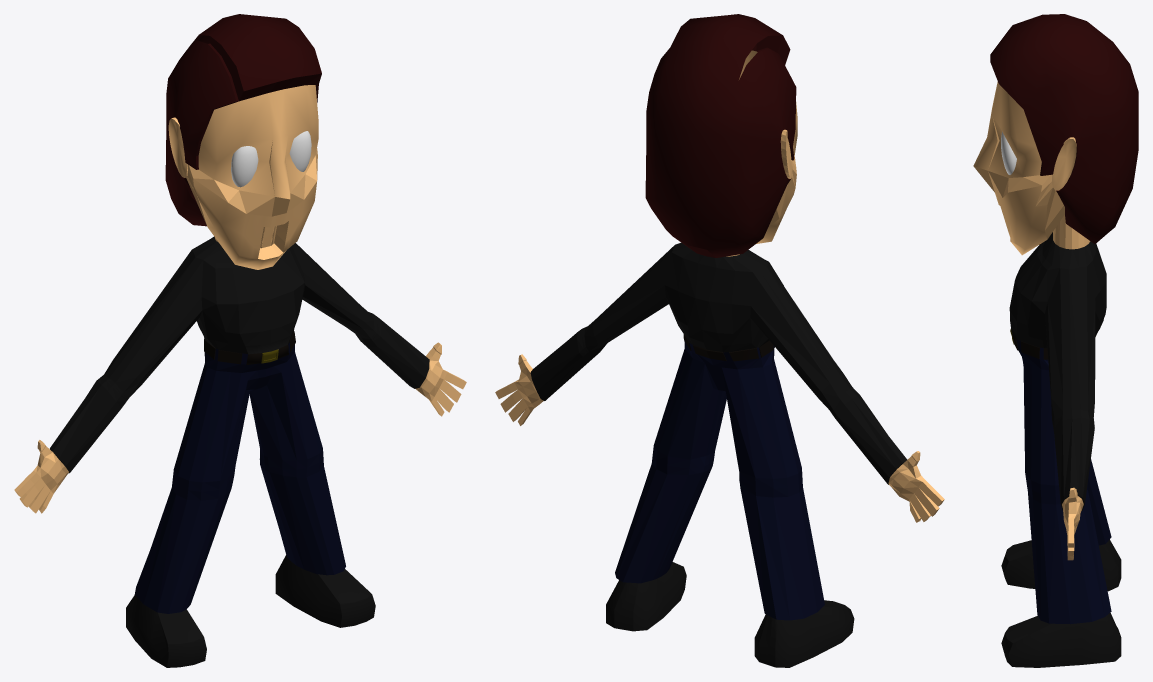
Rendered from Corredor.fbx.
3 renders of one model, left to right at view 1: azimuth 30°, elevation 25°; view 2: azimuth 150°, elevation 25°; view 3: azimuth 270°, elevation 25°, orthographic.
Visible parts, largest first — view 1: Cylinder004; view 2: Cylinder004; view 3: Cylinder004.
Boxes of the visible parts, x1,y1,x2,y2 form: Cylinder004: [14, 14, 466, 667]; Cylinder004: [495, 14, 944, 667]; Cylinder004: [973, 14, 1138, 667].
Bounding box in the file's own units: 110 × 142 × 35.53.
